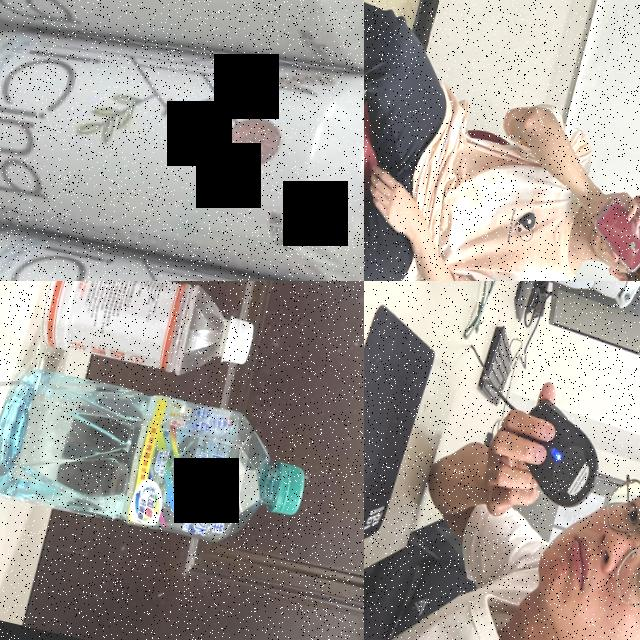bottle: (0, 358, 315, 562), (33, 281, 259, 392)
can: (0, 0, 364, 281), (0, 0, 364, 136), (0, 207, 364, 281)
